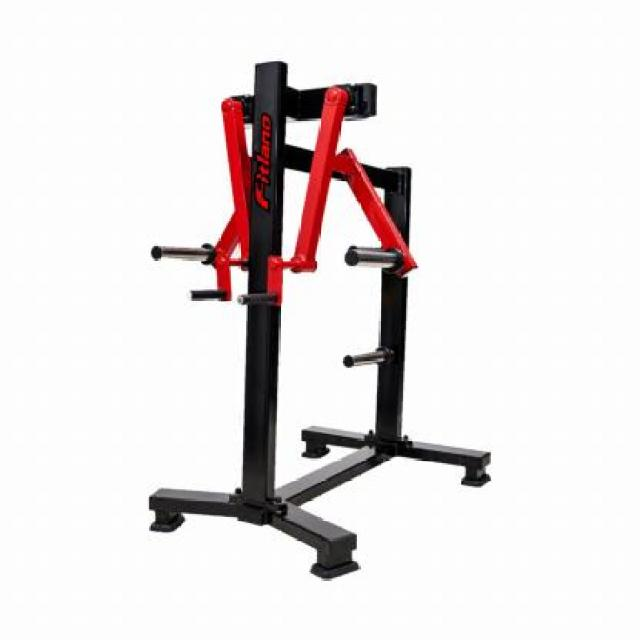lateral raises machine: (148, 62, 494, 580)
